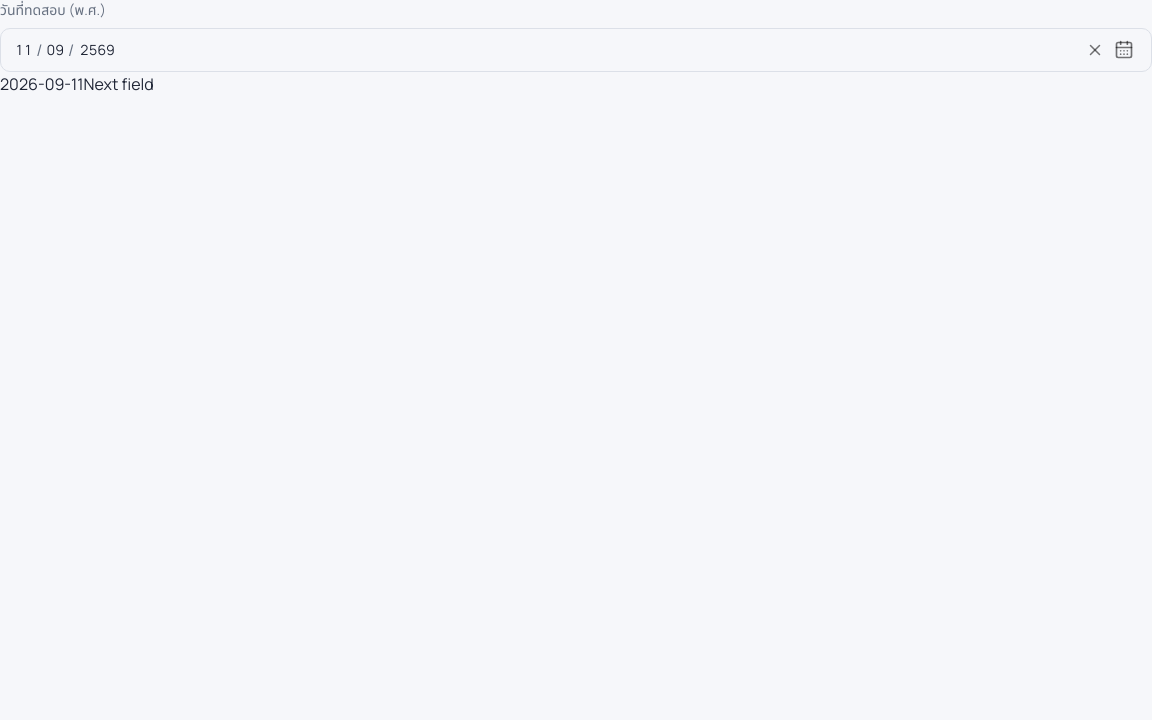
adaptive pickers › selects an individual date and restores focus after closing the calendar
Click the button named "เปิดวันที่ทดสอบ".
click(1124, 50)  # box x1=1109 y1=35 x2=1139 y2=65
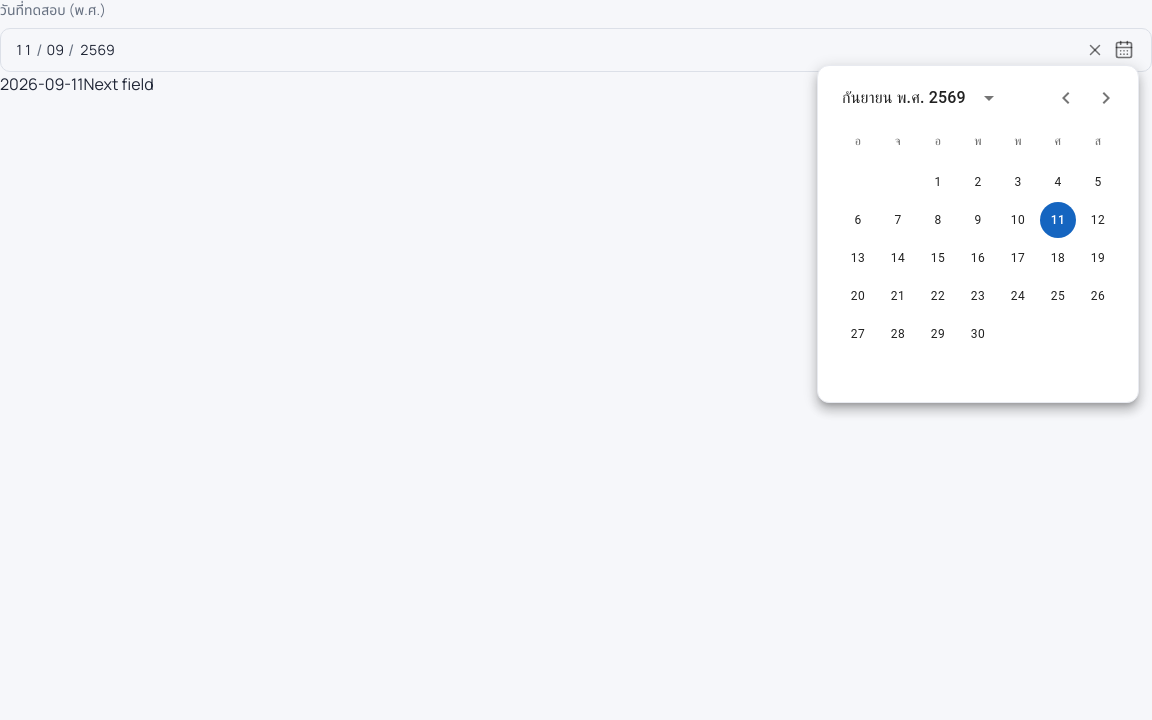
Click the cell "15".
click(938, 258)  # box x1=920 y1=240 x2=956 y2=276
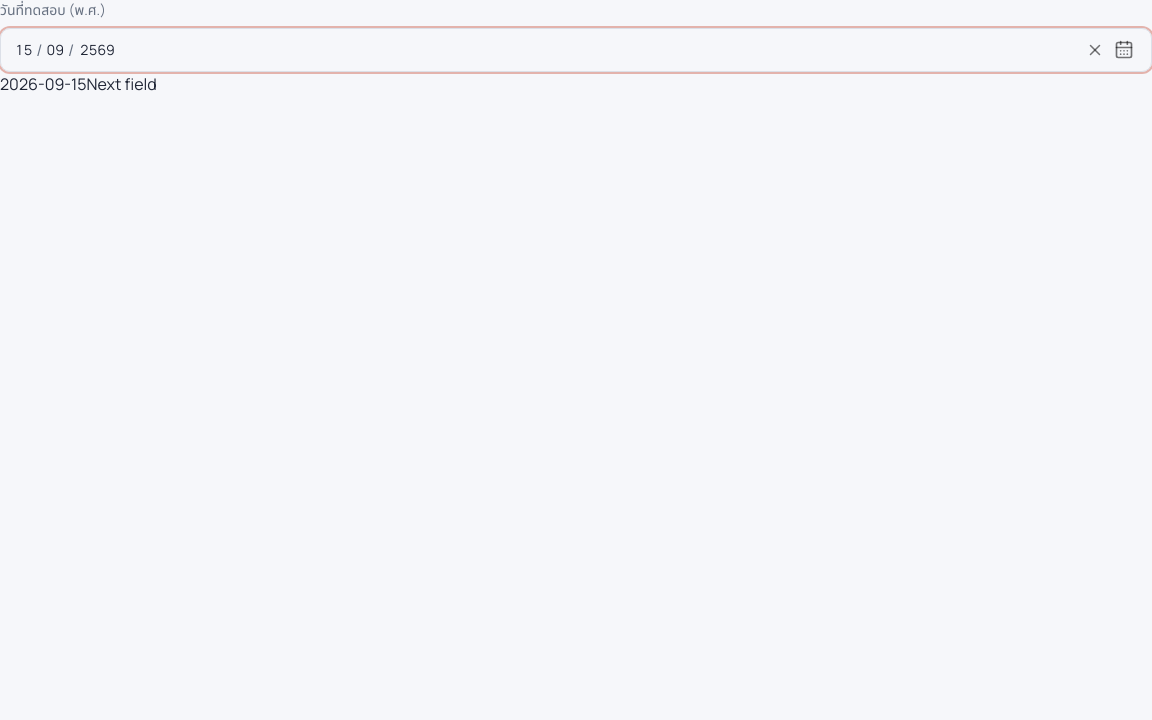
Now the dialog is gone
